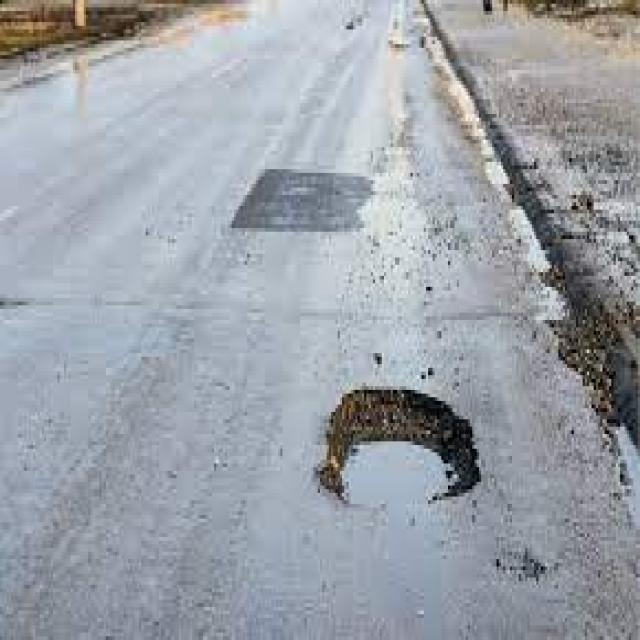pothole: (318, 378, 486, 519)
